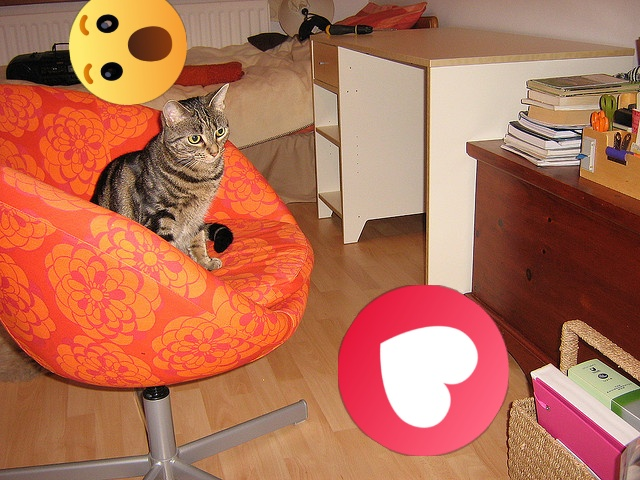love: (338, 285, 509, 456)
wow: (69, 0, 187, 105)
